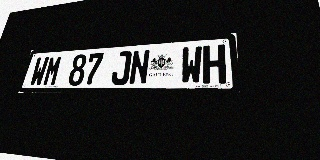7: (82, 53, 104, 86)
8: (67, 54, 88, 86)
H: (203, 44, 226, 84)
J: (110, 51, 132, 85)
M: (42, 56, 63, 86)
N: (128, 49, 150, 85)
W: (180, 46, 202, 84), (29, 56, 50, 86)
